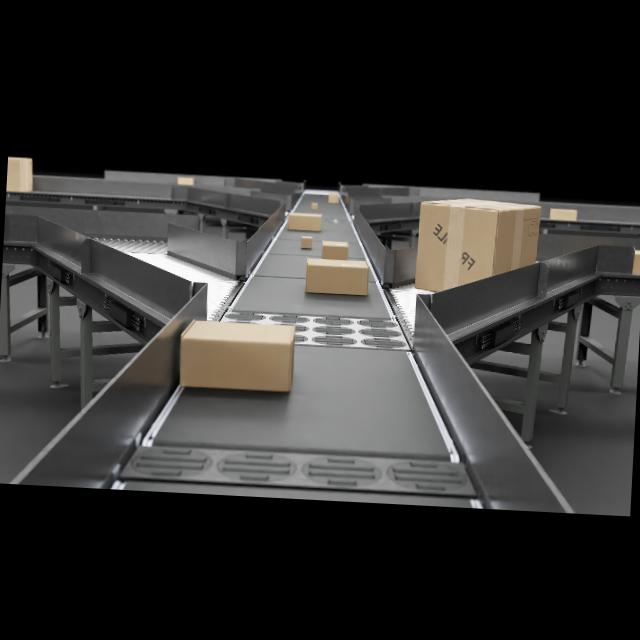box: (412, 195, 542, 298), (178, 317, 296, 392), (304, 256, 371, 298), (6, 155, 32, 191), (286, 212, 322, 230), (320, 240, 350, 258), (302, 234, 312, 248)
